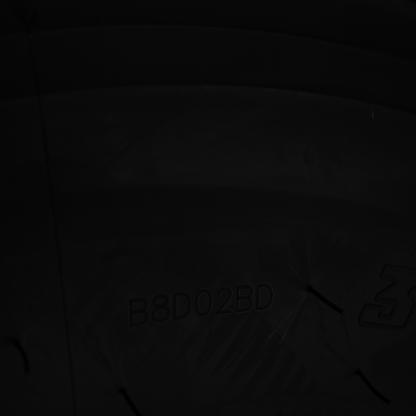ocr: (128, 280, 275, 332)
